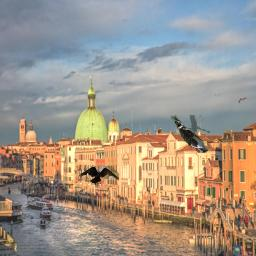Crow: (79, 166, 119, 187)
Cuckoo: (170, 115, 210, 153)
